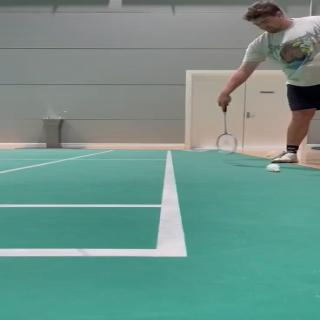Shuttle: (266, 164, 281, 172)
